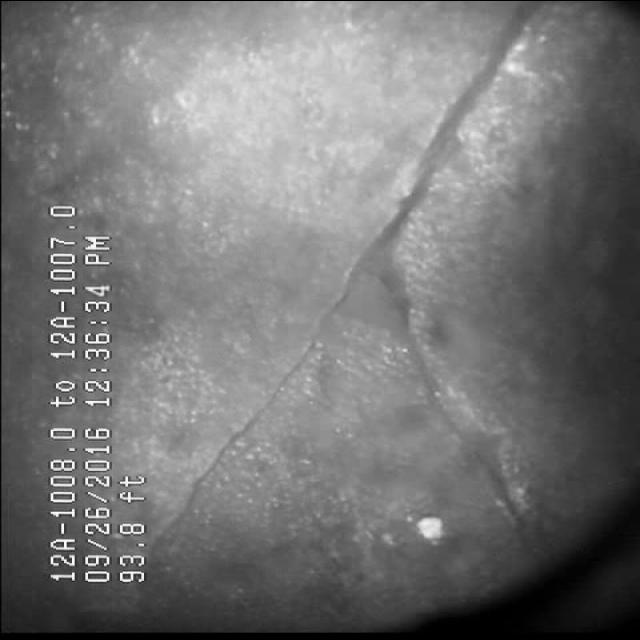Crack: (166, 51, 546, 498)
